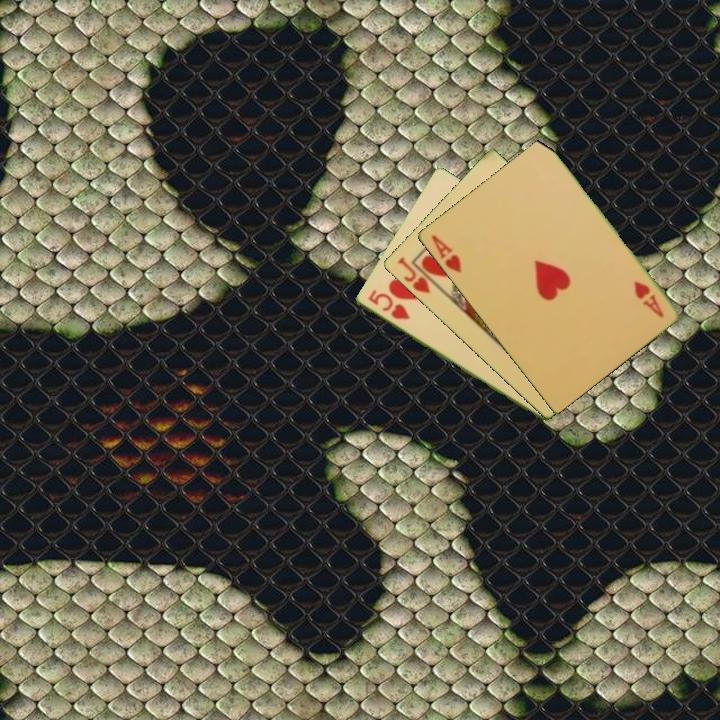5h: (364, 286, 413, 323)
Ah: (427, 231, 464, 276), (630, 277, 666, 320)
Jh: (394, 253, 433, 297)
